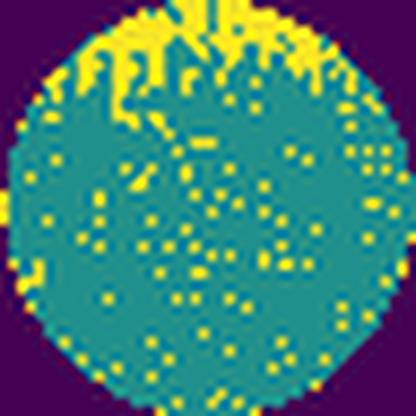Edge-Loc: (81, 0, 210, 132), (210, 0, 342, 101)
